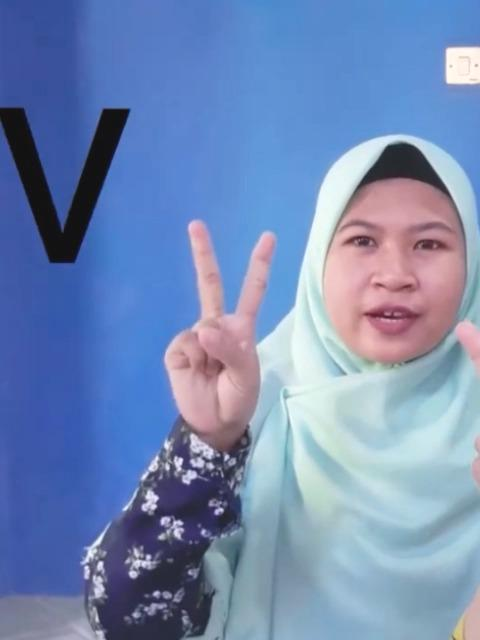V: (160, 218, 282, 432)
